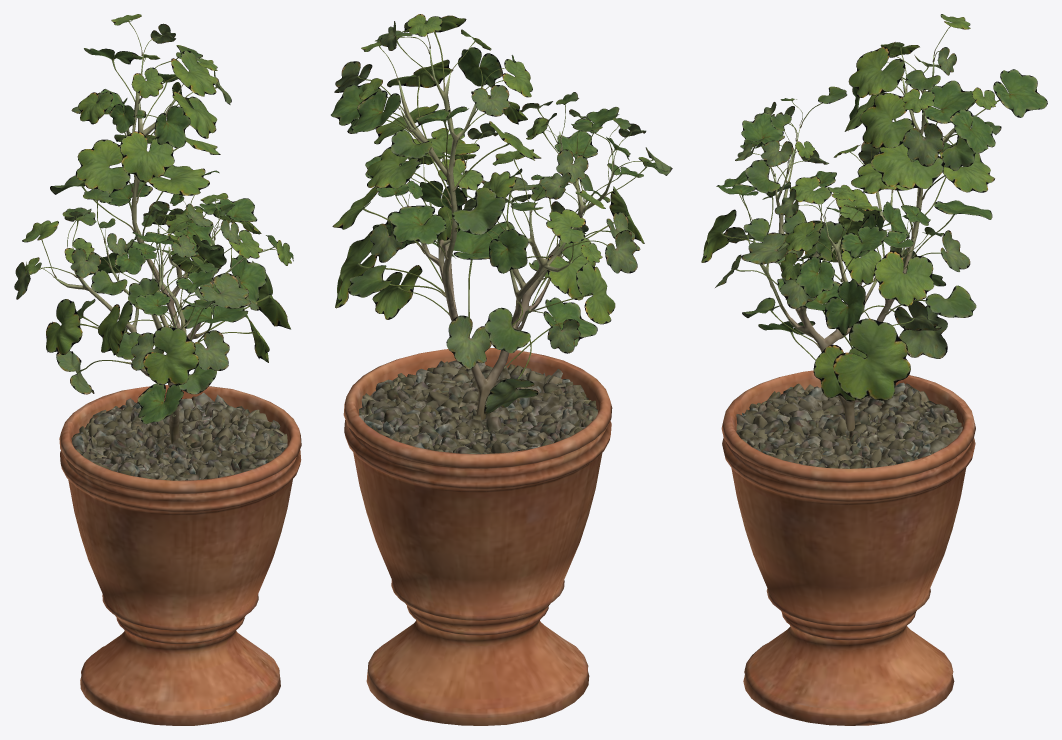
Rendered from potted_plant_1.glb.
3 views of the same model, side by side, from view 1: azimuth 30°, elevation 25°; view 2: azimuth 150°, elevation 25°; view 3: azimuth 270°, elevation 25° (orthographic). The views are drawn at different scales.
Visible parts, largest first — view 1: potted_plant_01_stem, potted_plant_01_leaves; view 2: potted_plant_01_stem, potted_plant_01_leaves; view 3: potted_plant_01_stem, potted_plant_01_leaves.
Boxes of the visible parts, x1,y1,x2,y2 form: potted_plant_01_stem: (54,54,301,725); potted_plant_01_leaves: (14,14,293,424); potted_plant_01_stem: (343,49,613,725); potted_plant_01_leaves: (331,14,672,414); potted_plant_01_stem: (721,55,975,725); potted_plant_01_leaves: (701,14,1047,401).
Size of the model in its own units: 0.5874 by 1.34 by 0.6336.
2 materials, 2 textured.
